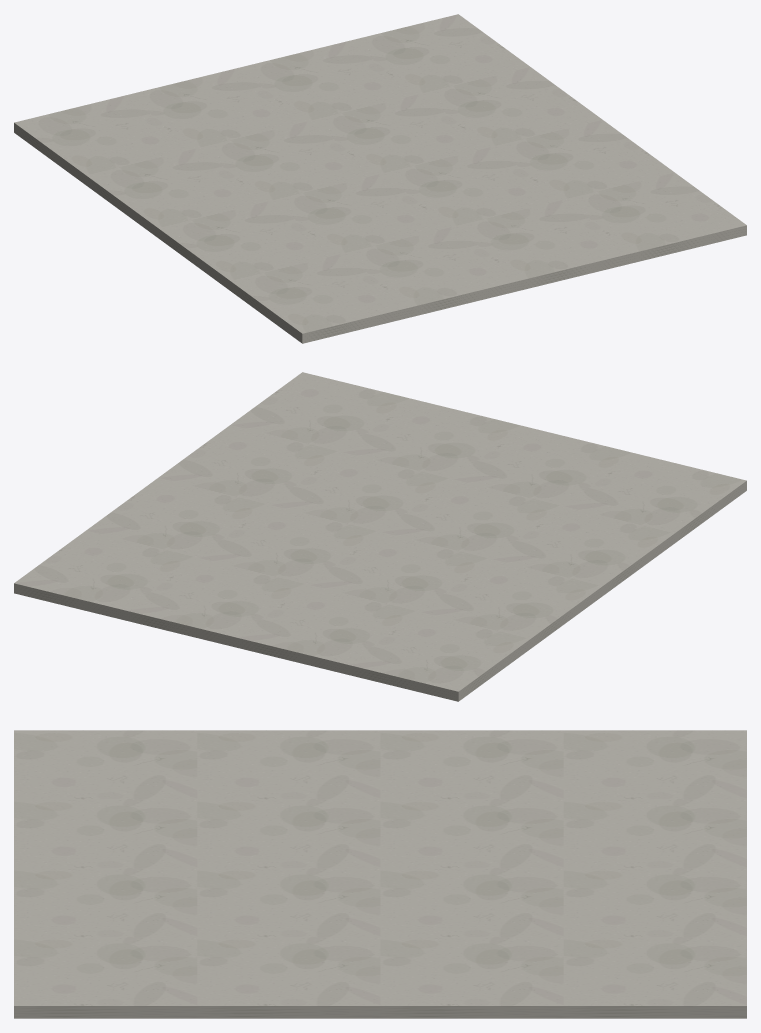
Rendered from piso_concreto.glb.
3 views of the same model, one above another, from view 1: azimuth 30°, elevation 25°; view 2: azimuth 150°, elevation 25°; view 3: azimuth 270°, elevation 25° (orthographic). The views are drawn at different scales.
Visible parts, largest first — view 1: Piso_concreto; view 2: Piso_concreto; view 3: Piso_concreto.
Boxes of the visible parts, box(x1,y1,x2,y2) form: Piso_concreto: box(14, 14, 746, 343); Piso_concreto: box(14, 372, 746, 701); Piso_concreto: box(14, 730, 746, 1018).
Size of the model in its own units: 6.93 by 0.15 by 7.79.
Materials: 1 (1 with a texture image).
